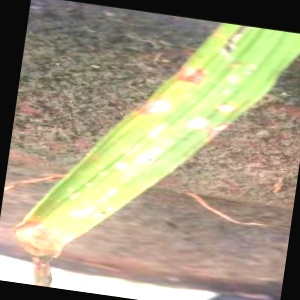Brown_Spot: (176, 56, 212, 92), (129, 91, 172, 119), (173, 110, 214, 139), (217, 94, 246, 121)
